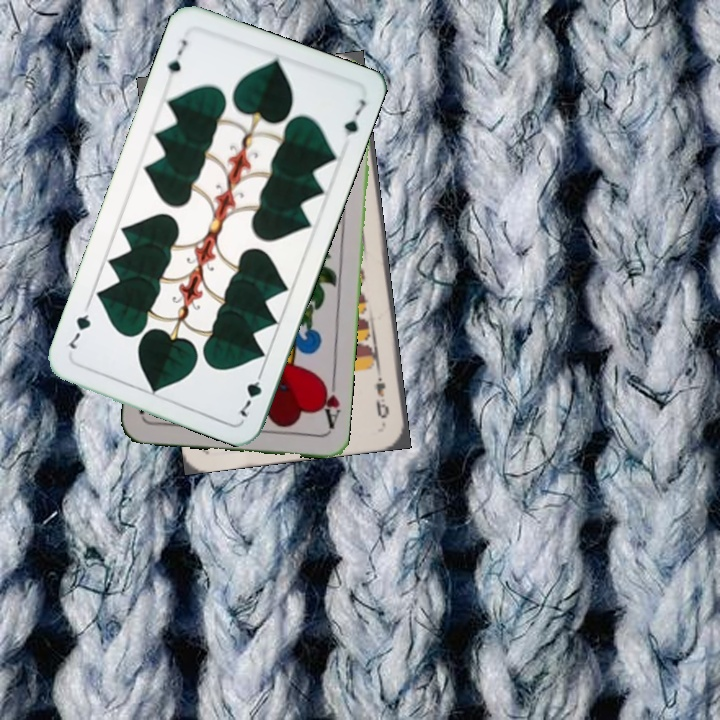E9: (372, 365, 392, 421)
G7: (234, 364, 267, 420), (163, 35, 190, 84)
HA: (316, 373, 343, 432)
